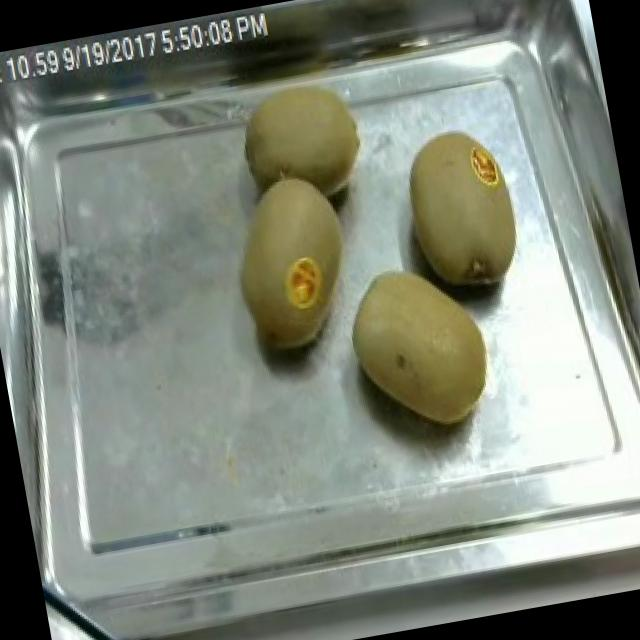Fruit: (330, 246, 511, 448), (214, 160, 374, 366), (384, 110, 540, 310), (226, 64, 384, 225)
